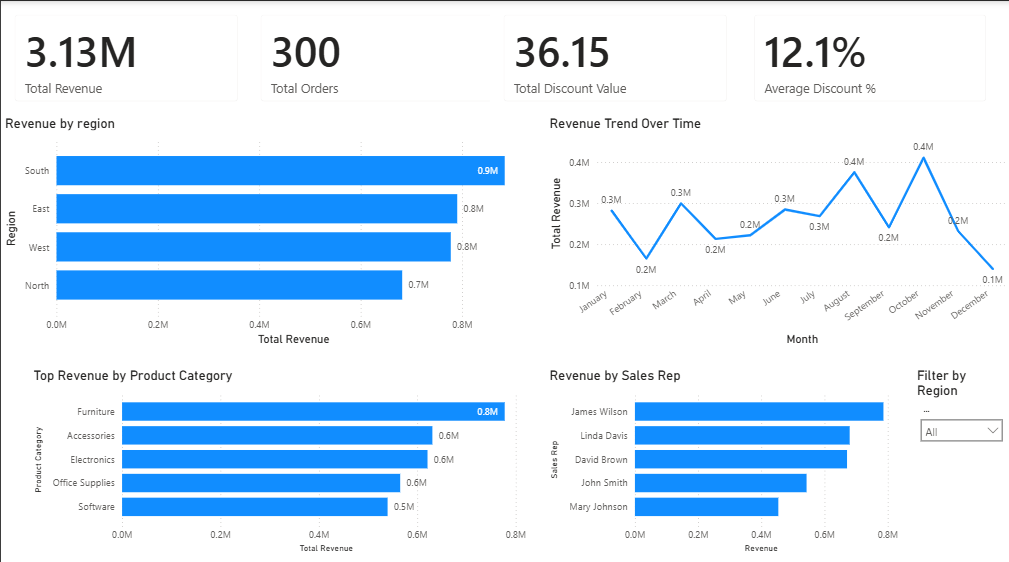

What the dashboard file says about the page in this screenshot:
{"tool":"powerbi","page":{"name":"Page 1","canvas":[1280,720],"ordinal":0},"visuals":[{"type":"cardVisual","fields":{"Data":["sales_data_postgres_ready.Total Revenue","sales_data_postgres_ready.Total Revenue","sales_data_postgres_ready.Total Revenue"]},"box":[0,0,317.5,144.5],"z":0},{"type":"cardVisual","fields":{"Data":["sales_data_postgres_ready.Total Orders"]},"box":[311.8,0,328.9,144.5],"z":1000},{"type":"cardVisual","fields":{"Data":["sales_data_postgres_ready.Total Discount Value"]},"box":[619.7,0,317.5,144.5],"z":2000},{"type":"cardVisual","fields":{"Data":["sales_data_postgres_ready.Average Discount %"]},"box":[937.2,0,328.9,144.5],"z":3000},{"type":"clusteredBarChart","title":"Revenue by region","fields":{"Category":["sales_data_postgres_ready.region"],"Y":["Sum(sales_data_postgres_ready.revenue)"]},"box":[0,144.5,690.1,296.6],"z":4000},{"type":"lineChart","title":"Revenue Trend Over Time","fields":{"Category":["sales_data_postgres_ready.order_date.Variation.Date Hierarchy.Month"],"Y":["sales_data_postgres_ready.Total Revenue"]},"box":[690.1,144.5,589.3,296.6],"z":5000},{"type":"clusteredBarChart","title":"Top Revenue by Product Category","fields":{"Category":["sales_data_postgres_ready.product_category"],"Y":["Sum(sales_data_postgres_ready.revenue)"]},"box":[36.1,463.8,653.9,239.5],"z":6000},{"type":"clusteredBarChart","title":"Revenue by Sales Rep","fields":{"Category":["sales_data_postgres_ready.sales_rep"],"Y":["Sum(sales_data_postgres_ready.revenue)"]},"box":[690.1,463.8,452.4,239.5],"z":7000},{"type":"slicer","title":"Filter by Region","fields":{"Values":["sales_data_postgres_ready.region"]},"box":[1155.8,463.8,123.6,119.8],"z":8000}]}

Visuals, with their boxes in screenshot pixels (x1, y1, x2, y2), scaled from the page's 1280x720 canvas onto the 1009x562 screenshot:
cardVisual - sales_data_postgres_ready.Total Revenue x sales_data_postgres_ready.Total Revenue: (x1=0, y1=0, x2=250, y2=113)
cardVisual - sales_data_postgres_ready.Total Orders: (x1=246, y1=0, x2=505, y2=113)
cardVisual - sales_data_postgres_ready.Total Discount Value: (x1=488, y1=0, x2=739, y2=113)
cardVisual - sales_data_postgres_ready.Average Discount %: (x1=739, y1=0, x2=998, y2=113)
"Revenue by region" clusteredBarChart: (x1=0, y1=113, x2=544, y2=344)
"Revenue Trend Over Time" lineChart: (x1=544, y1=113, x2=1008, y2=344)
"Top Revenue by Product Category" clusteredBarChart: (x1=28, y1=362, x2=544, y2=549)
"Revenue by Sales Rep" clusteredBarChart: (x1=544, y1=362, x2=901, y2=549)
"Filter by Region" slicer: (x1=911, y1=362, x2=1008, y2=456)
